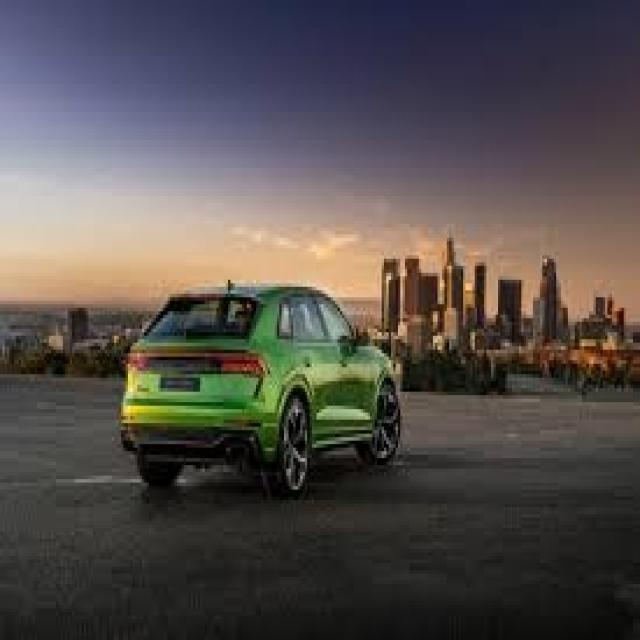green: (118, 278, 400, 490)
